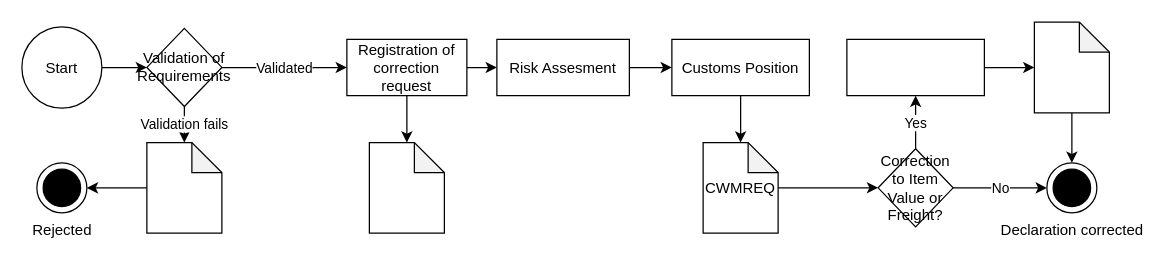
This 1165x261 diagram has some shape labels left out. The shapes that lost their labels are listed below. From the top down, each one's centre as x and y in pixels, then its label:
At (915,67): "Recalculation of preliminary VAT".
At (1071,67): "CWMTAX".
At (184,187): "CWMREJ".
At (406,187): "CWMRCV".
